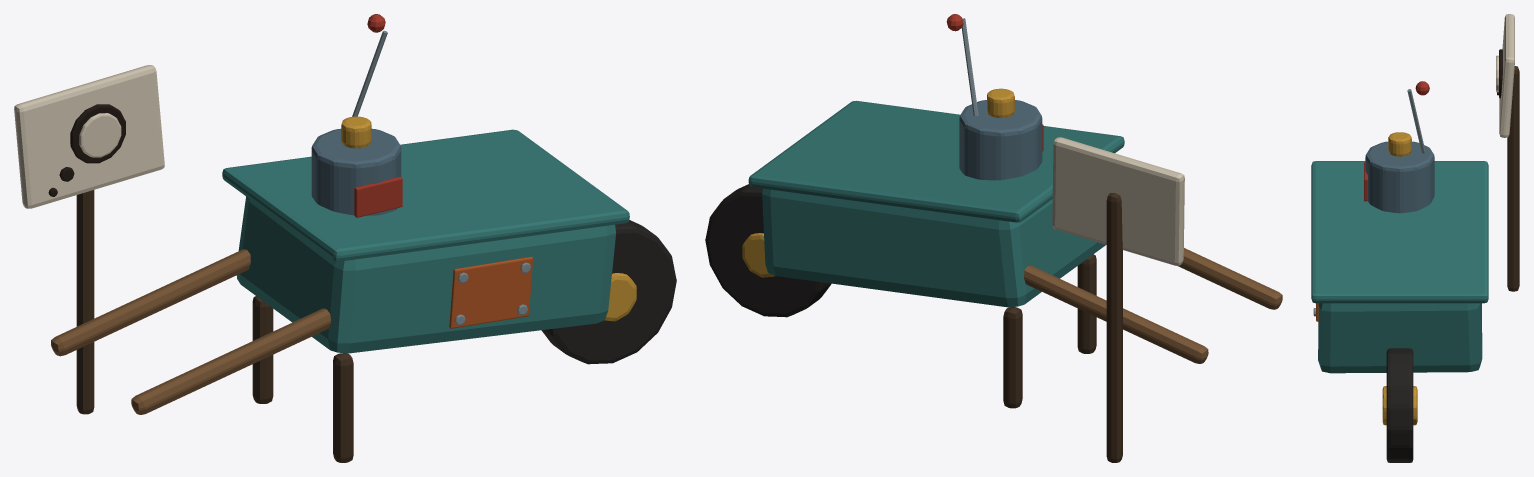
The model's file is deco_wheelbarrow.glb.
3 views of the same model, side by side, from view 1: azimuth 30°, elevation 25°; view 2: azimuth 150°, elevation 25°; view 3: azimuth 270°, elevation 25° (orthographic). The views are drawn at different scales.
Parts seen in each view (by area): view 1: Wheelbarrow_Mesh; view 2: Wheelbarrow_Mesh; view 3: Wheelbarrow_Mesh.
Boxes of the visible parts, <box> form: Wheelbarrow_Mesh: <box>14,14,676,462</box>; Wheelbarrow_Mesh: <box>705,14,1282,462</box>; Wheelbarrow_Mesh: <box>1311,14,1519,462</box>.
Bounding box in the file's own units: 2.51 × 1.58 × 1.01.
